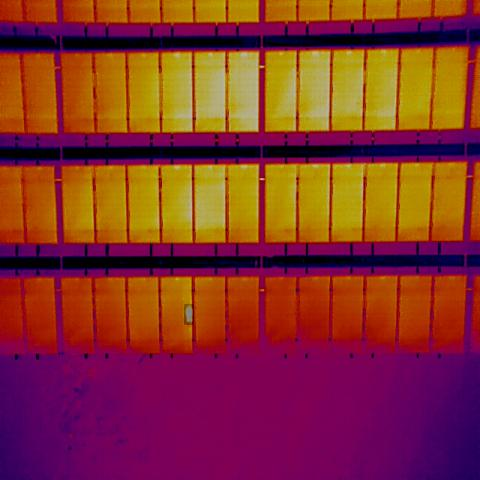fault: (184, 304, 194, 325)
